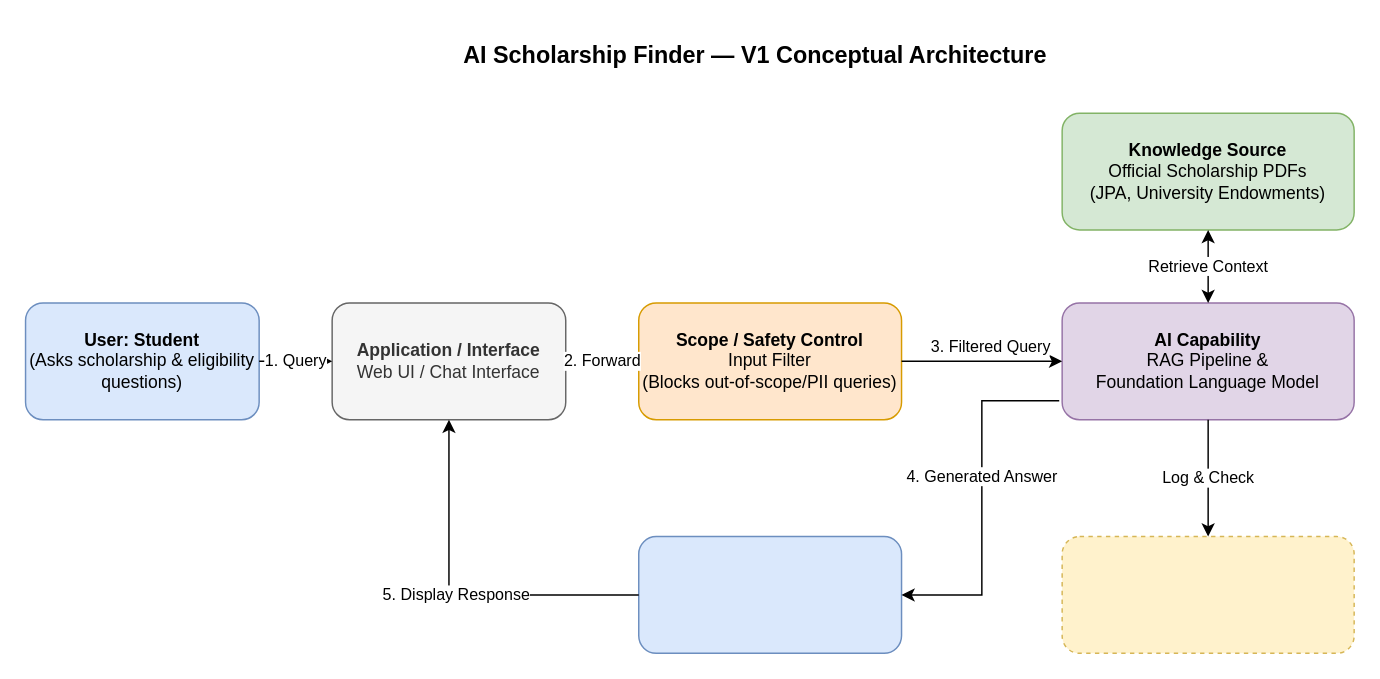
The diagram is 1380 pixels wide and 679 high, and some of its shapes have lost their labels. Each missing label, with the centre of its shape:
Evaluation Point Response Log & Groundedness Checker: (1207,594)
Output Response Grounded Answer + Page Citations: (769,594)
